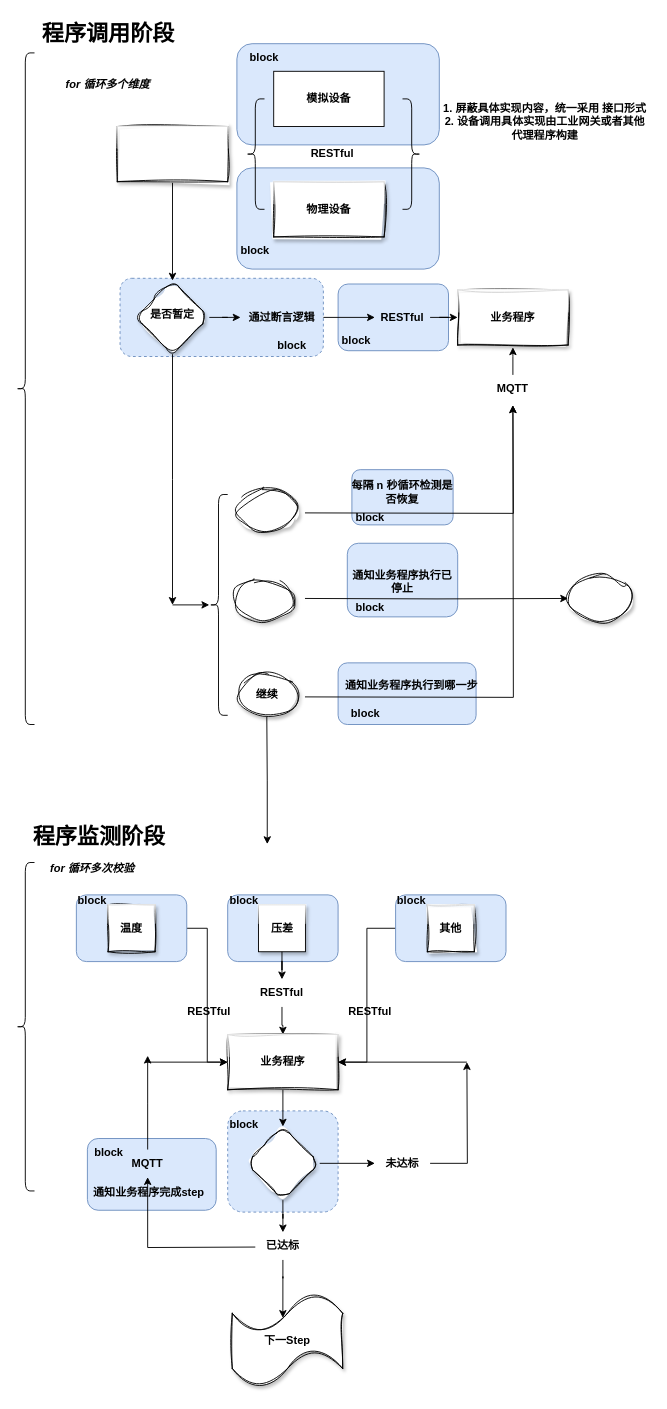
Image size: 667x1409. Some labels were removed from this diagram. The shapes that lost their labels are listed below. From the top down, each one's centre as x and y in pixels, then its label:
At (x=173, y=155): "调用程序".
At (x=267, y=510): "暂停".
At (x=265, y=601): "停止".
At (x=601, y=599): "结束".
At (x=283, y=1164): "是否达标".
